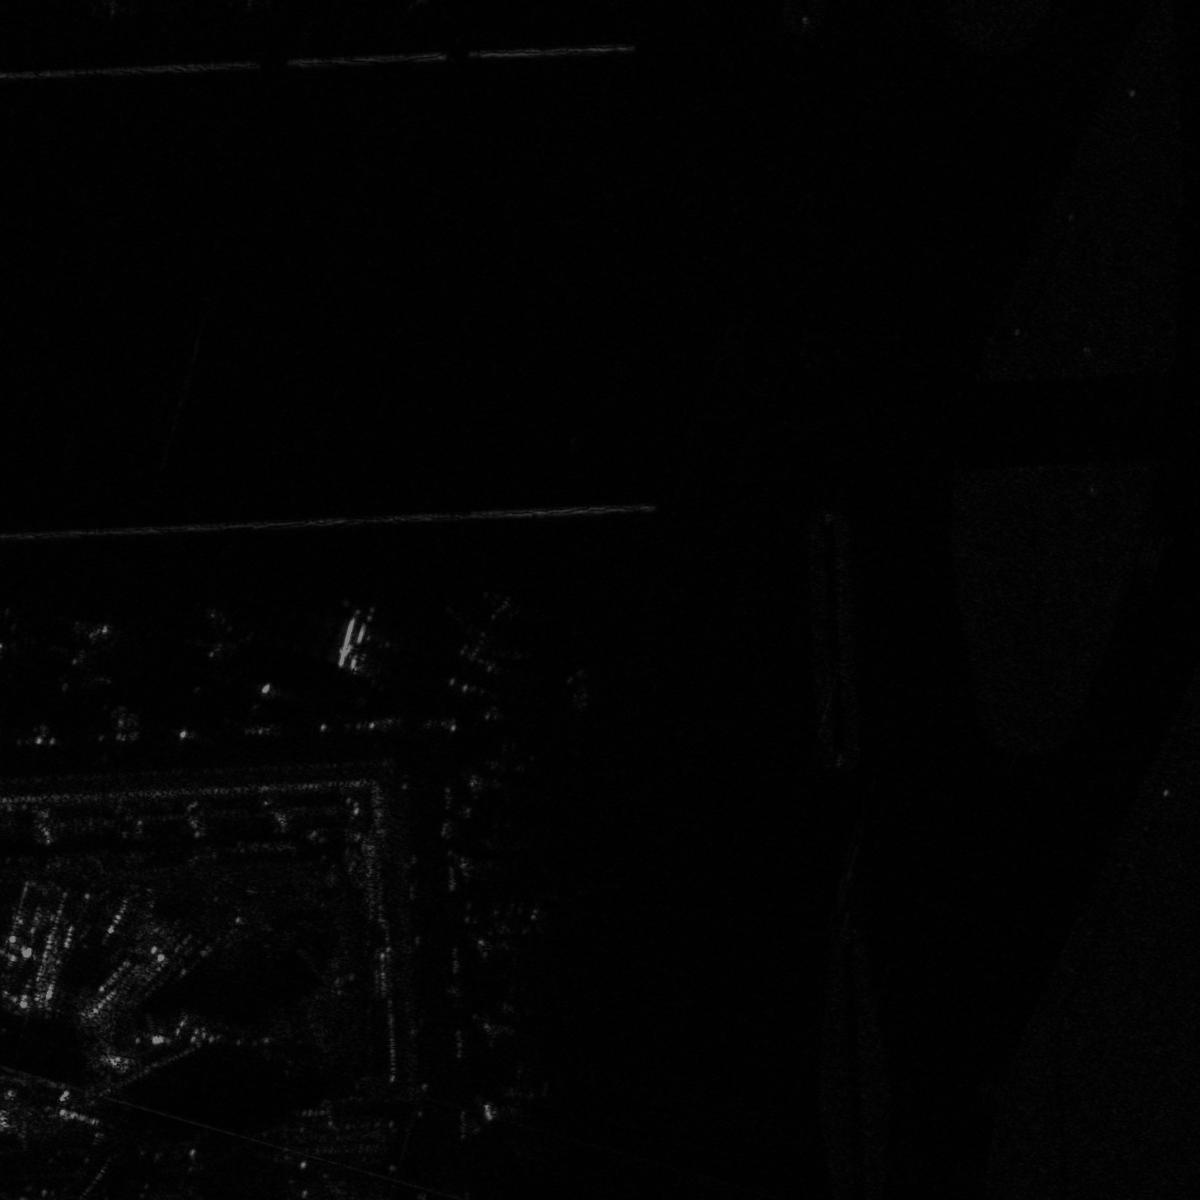A220: (473, 1062, 554, 1154), (477, 969, 554, 1056), (473, 890, 551, 971)
A320/321: (427, 576, 527, 702)
Boeing787: (307, 599, 392, 691), (174, 597, 268, 660)
other: (36, 613, 123, 704)
